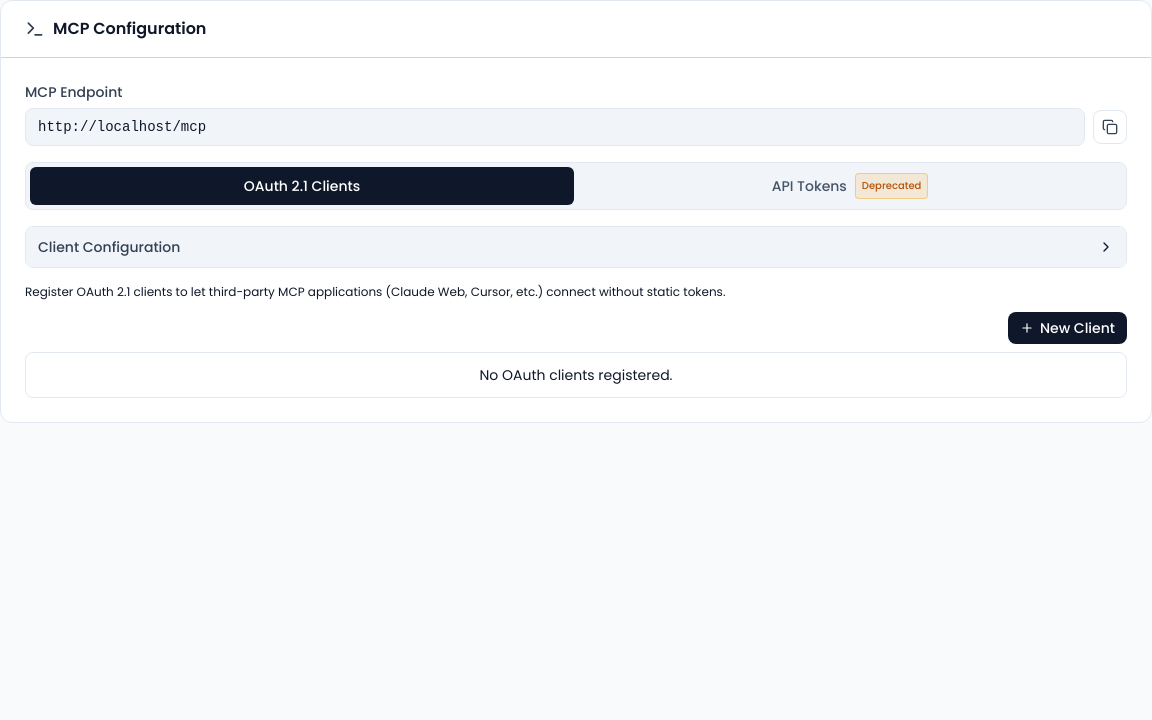
Test: IntegrationsTab › FE-COMP-INTEGRATIONS-008: clicking "Create New Token" button opens the modal
Expected: the heading "MCP Configuration" is shown, left=53, top=17, right=206, bottom=41
Step 1. Click the button "API Tokens Deprecated" → click(809, 186), box left=578, top=167, right=1122, bottom=205
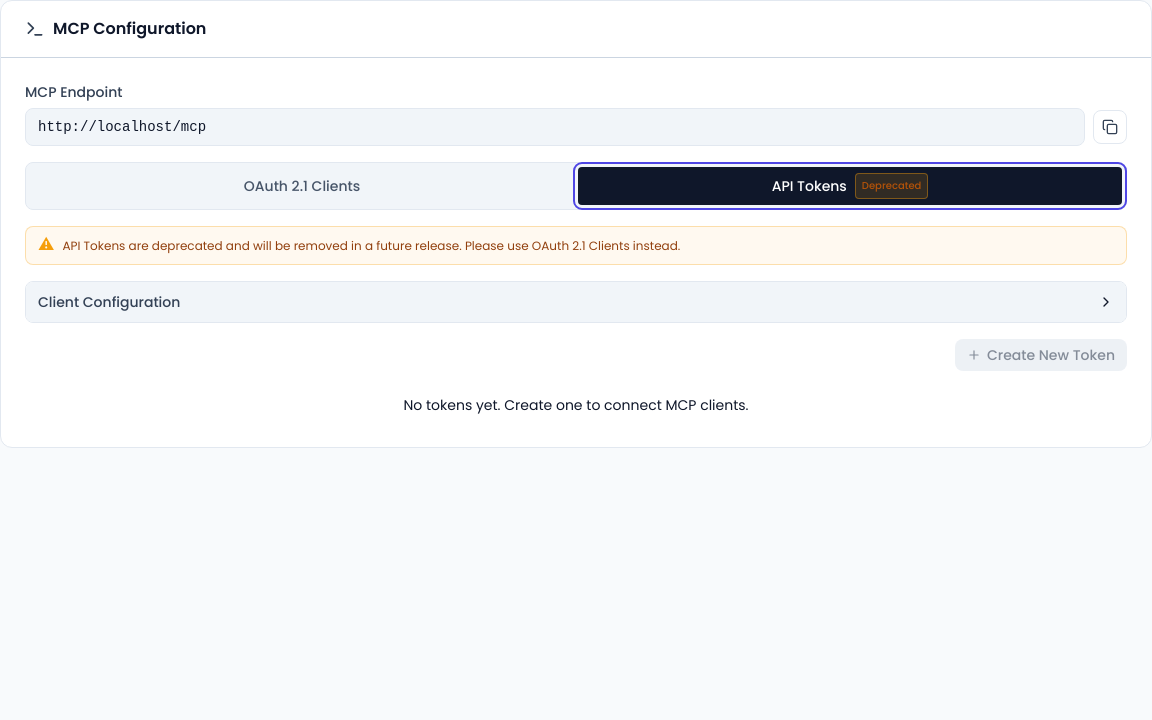
Step 2. Click the button "Create New Token" → click(1041, 355), box left=955, top=339, right=1127, bottom=371
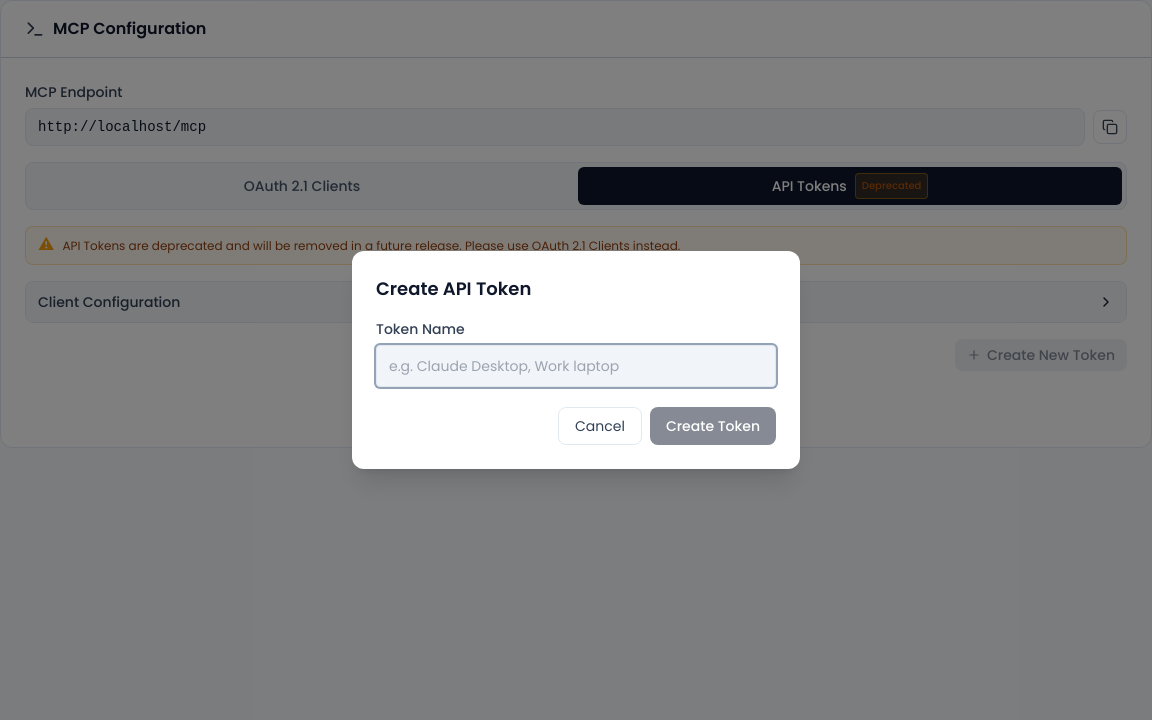
Now the heading "Create API Token" is shown, box left=376, top=276, right=531, bottom=301
